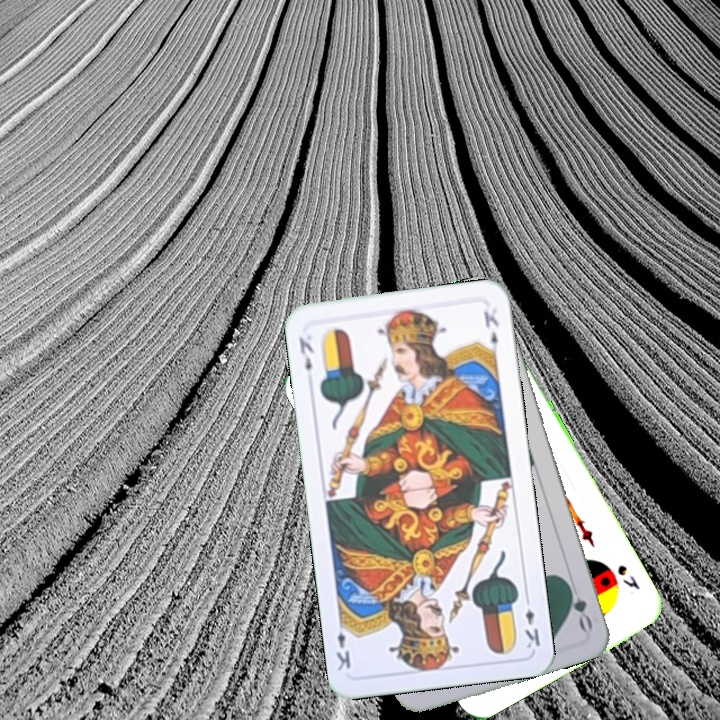EK: (521, 591, 543, 651), (294, 333, 316, 374)
GO: (561, 576, 595, 634)
SK: (613, 560, 643, 592)
